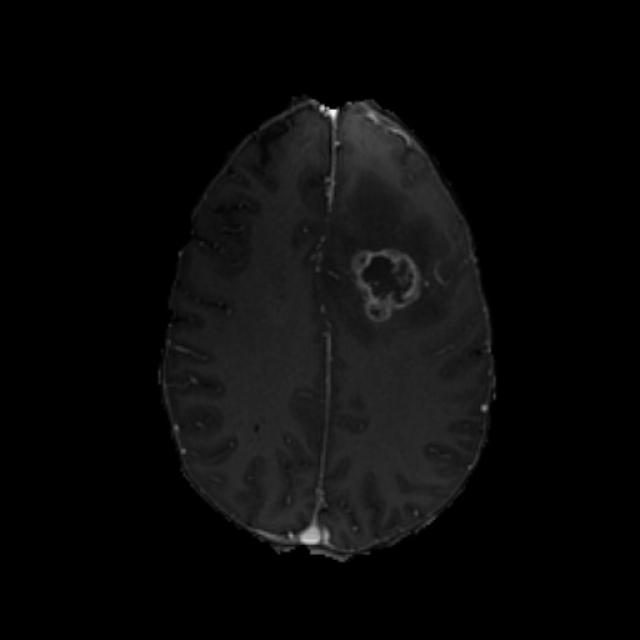negative: (352, 248, 422, 321)
